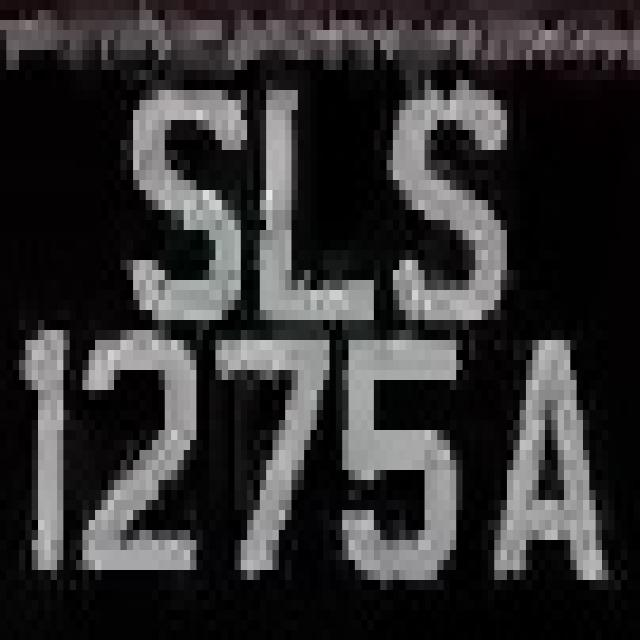1: (13, 310, 76, 590)
2: (76, 300, 222, 620)
5: (330, 290, 462, 580)
7: (203, 320, 323, 600)
A: (475, 310, 615, 610)
L: (234, 90, 374, 330)
S: (374, 90, 532, 350), (101, 70, 241, 340)
